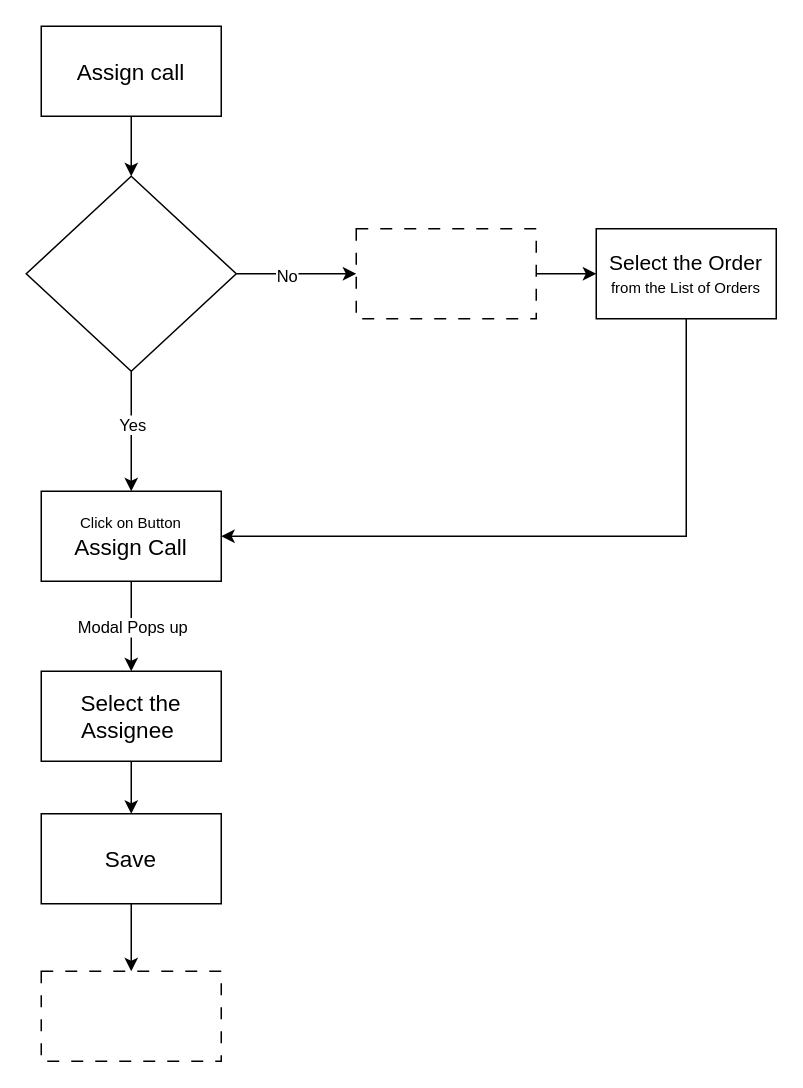
Some shapes in this 803 by 1088 pixel diagram are drawn without their labels. The centre of each missing label's shape, as x and y in pixels:
"Alert Message Please select atleast 1 order to assing calls!" goes at [445,273].
"Alert! Confirmation of Call Assigned." goes at [130,1015].
"Any order selected?" goes at [130,273].
